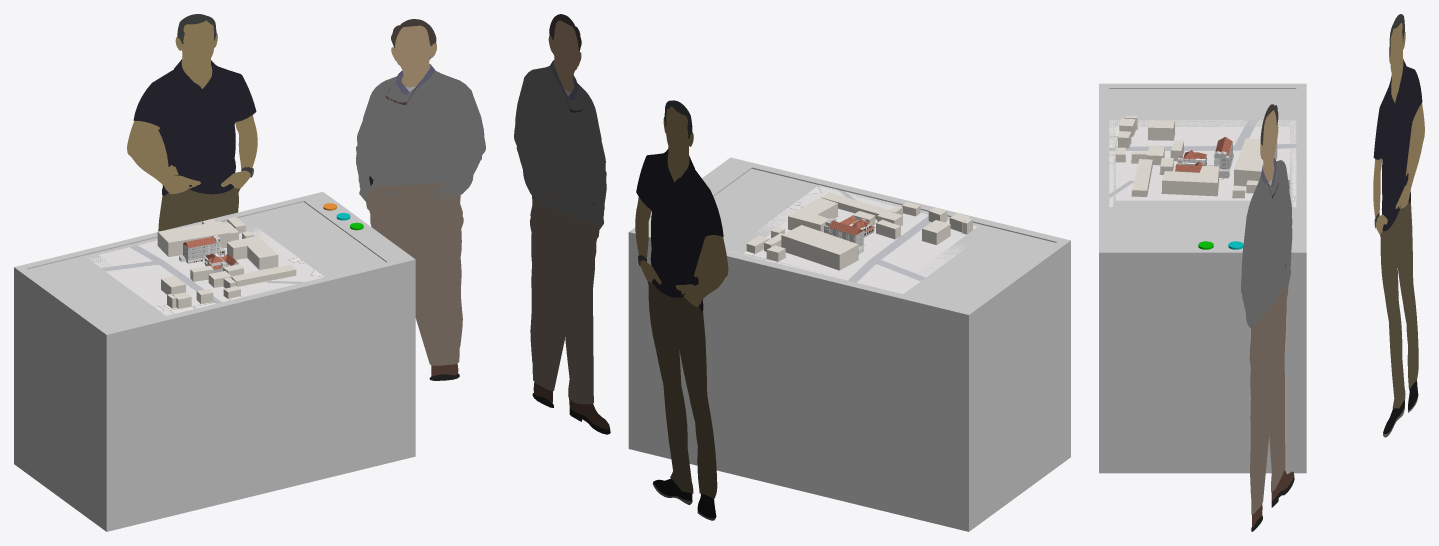
Rendered from V campus model.obj.
3 renders of one model, left to right at view 1: azimuth 30°, elevation 25°; view 2: azimuth 150°, elevation 25°; view 3: azimuth 270°, elevation 25°, orthographic. The views are drawn at different scales.
Parts seen in each view (by area): view 1: Mesh5606 Group5096 Model, Mesh1 Group1 Model, Mesh5611 Derrick1 Model, Mesh5610 Chris1 Model, Mesh5612 Model, Mesh5597 Buildings_10 Group5093 Group2 Model, Mesh5600 Buildings_40 Group5093 Group2 Model, Mesh5596 Buildings_34 Group5093 Group2 Model; view 2: Mesh5606 Group5096 Model, Mesh1 Group1 Model, Mesh5611 Derrick1 Model, Mesh5610 Chris1 Model, Mesh5612 Model, Mesh5597 Buildings_10 Group5093 Group2 Model, Mesh5600 Buildings_40 Group5093 Group2 Model, Mesh5596 Buildings_34 Group5093 Group2 Model; view 3: Mesh5606 Group5096 Model, Mesh1 Group1 Model, Mesh5611 Derrick1 Model, Mesh5610 Chris1 Model, Mesh5612 Model, Mesh5600 Buildings_40 Group5093 Group2 Model, Mesh5597 Buildings_10 Group5093 Group2 Model, Mesh5596 Buildings_34 Group5093 Group2 Model, Mesh5592 Buildings_38 Group5093 Group2 Model.
Part boxes in pixels (bbox=[...]): Mesh5606 Group5096 Model: bbox=[14, 291, 415, 531]; Mesh1 Group1 Model: bbox=[14, 192, 415, 365]; Mesh5611 Derrick1 Model: bbox=[356, 19, 485, 380]; Mesh5610 Chris1 Model: bbox=[127, 14, 257, 231]; Mesh5612 Model: bbox=[88, 227, 324, 315]; Mesh5597 Buildings_10 Group5093 Group2 Model: bbox=[157, 221, 230, 256]; Mesh5600 Buildings_40 Group5093 Group2 Model: bbox=[227, 235, 278, 269]; Mesh5596 Buildings_34 Group5093 Group2 Model: bbox=[231, 264, 296, 286]; Mesh5606 Group5096 Model: bbox=[628, 266, 1070, 531]; Mesh1 Group1 Model: bbox=[628, 157, 1070, 349]; Mesh5611 Derrick1 Model: bbox=[514, 14, 610, 434]; Mesh5610 Chris1 Model: bbox=[635, 100, 728, 520]; Mesh5612 Model: bbox=[728, 185, 977, 293]; Mesh5597 Buildings_10 Group5093 Group2 Model: bbox=[781, 225, 858, 270]; Mesh5600 Buildings_40 Group5093 Group2 Model: bbox=[788, 197, 837, 232]; Mesh5596 Buildings_34 Group5093 Group2 Model: bbox=[821, 192, 888, 219]; Mesh5606 Group5096 Model: bbox=[1099, 287, 1306, 473]; Mesh1 Group1 Model: bbox=[1099, 83, 1306, 287]; Mesh5611 Derrick1 Model: bbox=[1241, 104, 1294, 531]; Mesh5610 Chris1 Model: bbox=[1373, 14, 1424, 437]; Mesh5612 Model: bbox=[1109, 120, 1296, 207]; Mesh5600 Buildings_40 Group5093 Group2 Model: bbox=[1162, 166, 1218, 196]; Mesh5597 Buildings_10 Group5093 Group2 Model: bbox=[1234, 138, 1277, 186]; Mesh5596 Buildings_34 Group5093 Group2 Model: bbox=[1132, 159, 1152, 196]; Mesh5592 Buildings_38 Group5093 Group2 Model: bbox=[1148, 120, 1174, 140].
Size of the model in its own units: 2234 by 1765 by 1271.
